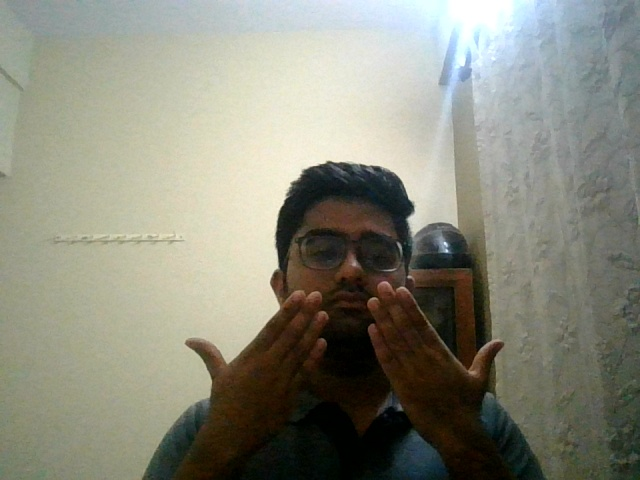Thank You: (177, 270, 533, 476)
